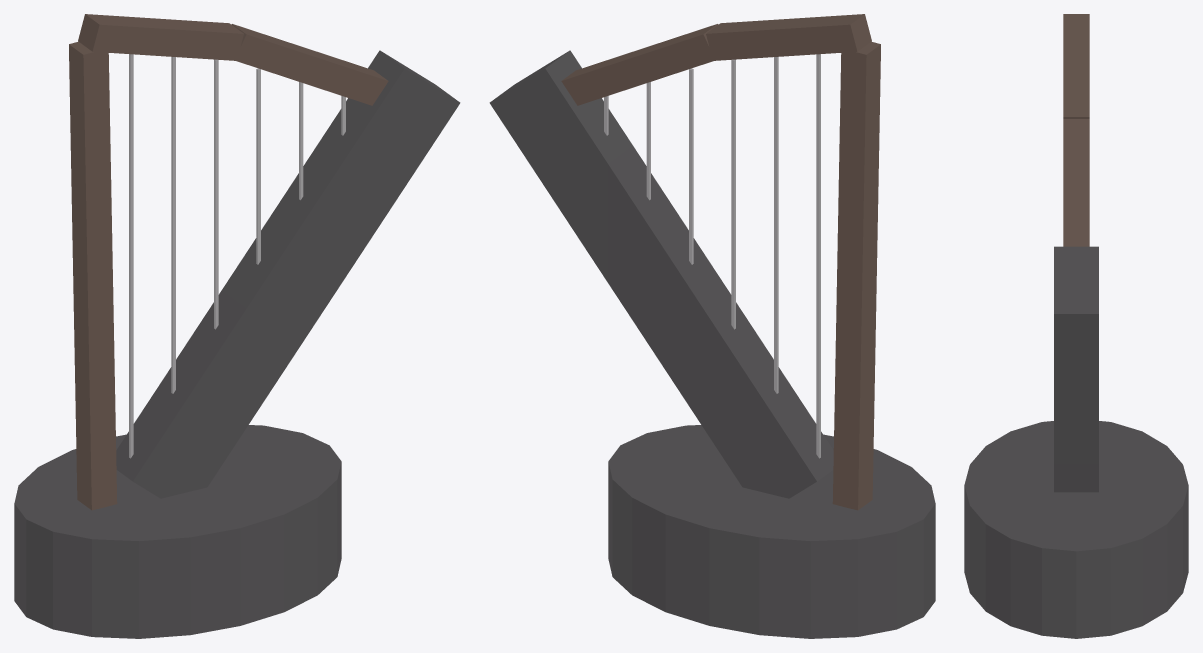
The model's file is Building_Harp.glb.
3 renders of one model, left to right at view 1: azimuth 30°, elevation 25°; view 2: azimuth 150°, elevation 25°; view 3: azimuth 270°, elevation 25°, orthographic. The views are drawn at different scales.
Visible parts, largest first — view 1: Harp; view 2: Harp; view 3: Harp.
Boxes of the visible parts, bbox=[...] form: Harp: bbox=[14, 14, 460, 638]; Harp: bbox=[489, 14, 935, 638]; Harp: bbox=[964, 14, 1188, 638].
Bounding box in the file's own units: 1.17 × 1.54 × 0.6.
Materials: 1 (1 with a texture image).
